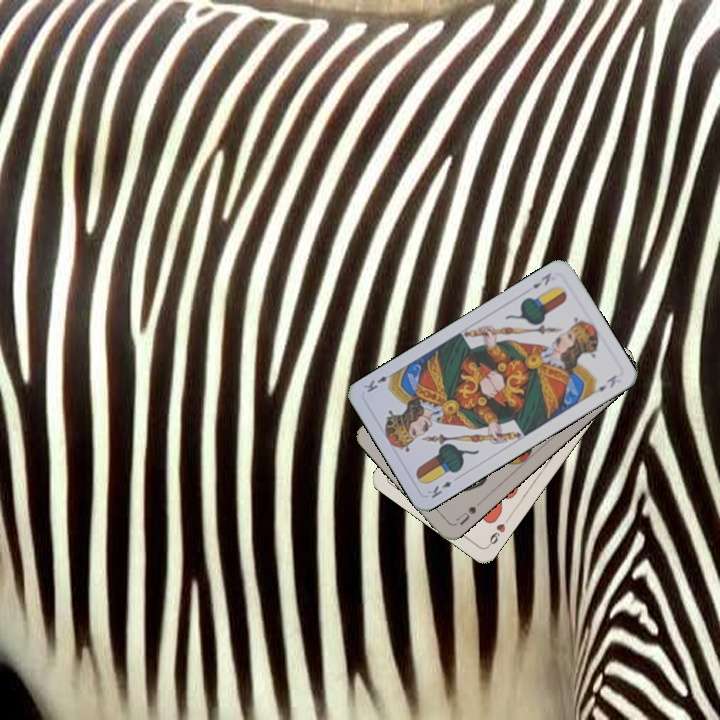EK: (423, 477, 454, 501), (528, 268, 554, 291)
H9: (483, 514, 511, 549)
SU: (451, 502, 479, 528)
